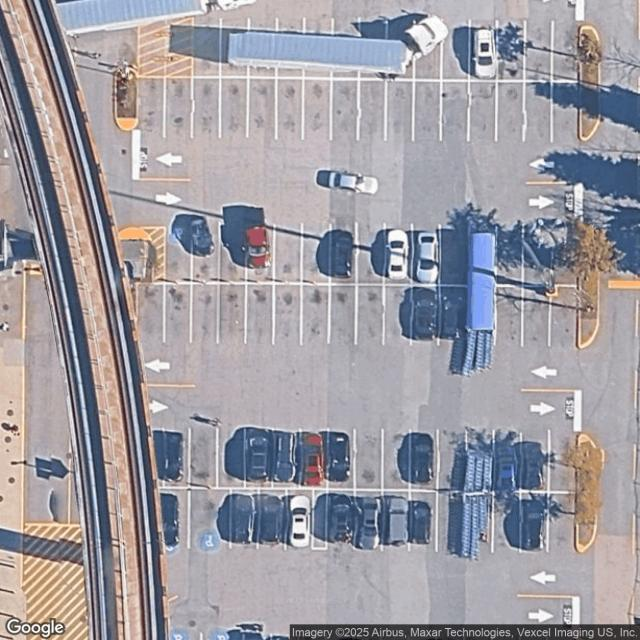car: (299, 432, 325, 488), (242, 225, 274, 270), (411, 287, 437, 341), (414, 230, 439, 286), (272, 430, 297, 486), (328, 492, 356, 542), (185, 212, 215, 258), (328, 228, 354, 281), (409, 432, 435, 485), (520, 498, 546, 551), (357, 495, 382, 550), (438, 293, 466, 341), (246, 426, 270, 481), (493, 441, 518, 493), (384, 494, 409, 546), (258, 494, 284, 544), (289, 492, 312, 548), (230, 493, 255, 544), (385, 228, 409, 281), (161, 429, 185, 482), (473, 28, 498, 78), (327, 432, 352, 482), (520, 442, 544, 492), (408, 498, 431, 545), (162, 490, 180, 548)
lot_boundary: (51, 0, 639, 639)
objects: (228, 13, 449, 75), (118, 225, 166, 321), (468, 225, 497, 372), (137, 19, 192, 78), (579, 28, 601, 142), (576, 436, 598, 550), (579, 229, 599, 348), (465, 493, 494, 556), (466, 431, 494, 491), (113, 67, 137, 130)
stall: (190, 488, 230, 549), (160, 488, 190, 550), (157, 429, 189, 487), (301, 284, 329, 342), (330, 284, 358, 342), (439, 286, 467, 344), (412, 286, 440, 344), (383, 286, 411, 344), (356, 286, 384, 344), (330, 226, 358, 284), (302, 225, 330, 283), (219, 224, 247, 282), (191, 225, 219, 283), (384, 226, 412, 284), (356, 225, 384, 283), (524, 227, 552, 285), (495, 288, 523, 346), (495, 228, 523, 286), (135, 285, 163, 343), (550, 286, 578, 344), (554, 228, 582, 286), (522, 286, 550, 344), (522, 433, 550, 491), (493, 432, 521, 490), (438, 433, 466, 491), (354, 431, 382, 489), (522, 492, 550, 550), (548, 494, 576, 552), (550, 434, 578, 492), (410, 491, 438, 549), (436, 492, 464, 550), (492, 492, 520, 550), (300, 430, 328, 488), (327, 431, 355, 489), (328, 490, 356, 548), (354, 491, 382, 549), (190, 428, 218, 486), (232, 489, 260, 547), (244, 429, 272, 487), (258, 488, 286, 546), (273, 430, 301, 488), (274, 225, 302, 282), (439, 227, 467, 284), (382, 432, 410, 489), (285, 491, 313, 548), (298, 431, 326, 488), (333, 19, 360, 78), (359, 80, 386, 138), (386, 81, 413, 139), (441, 82, 468, 140), (497, 82, 524, 140), (332, 80, 359, 138), (220, 19, 247, 77), (388, 21, 415, 79), (470, 22, 497, 80), (525, 22, 552, 80), (442, 22, 469, 80), (414, 22, 441, 80), (192, 284, 219, 342), (274, 284, 301, 342), (247, 284, 274, 342), (247, 224, 274, 282), (217, 428, 244, 486), (412, 227, 439, 284), (411, 432, 438, 489), (382, 491, 409, 548), (250, 19, 276, 78), (193, 18, 219, 76), (414, 82, 440, 140), (469, 82, 495, 140), (525, 82, 551, 140), (552, 82, 578, 140), (221, 79, 247, 137), (249, 79, 275, 137), (276, 80, 302, 138), (304, 80, 330, 138), (278, 20, 304, 78), (138, 78, 164, 136), (165, 78, 191, 136), (192, 78, 218, 136), (361, 20, 387, 78), (306, 20, 332, 78), (499, 22, 525, 80), (165, 284, 191, 342), (220, 284, 246, 342), (166, 225, 192, 282), (552, 23, 578, 80), (314, 489, 327, 548)
